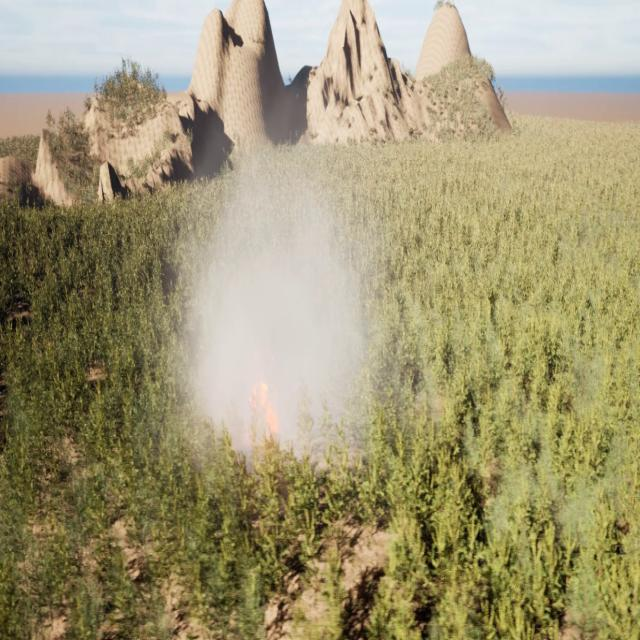fire: (243, 363, 280, 431)
smoke: (162, 126, 408, 478)
